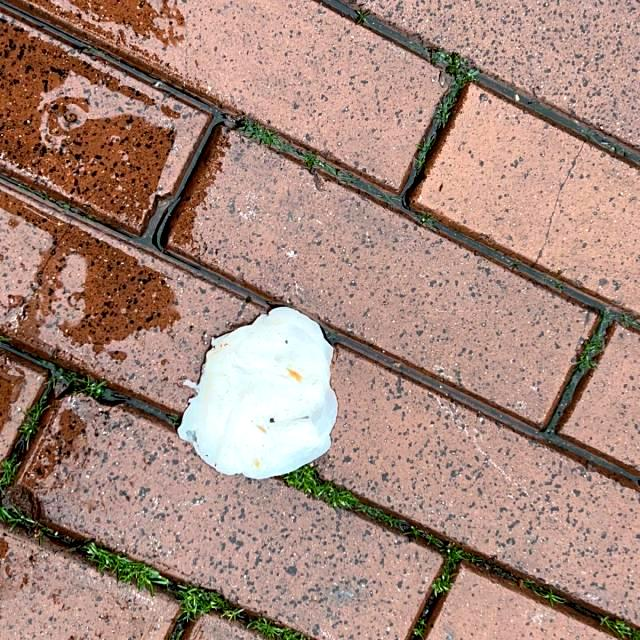Paper: (176, 304, 340, 482)
